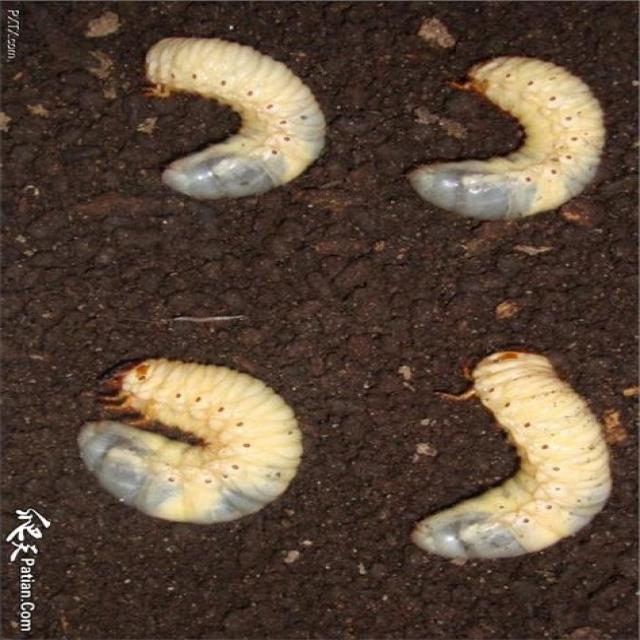grub: (403, 349, 622, 569), (72, 354, 309, 530), (397, 56, 609, 228), (138, 33, 341, 203)
